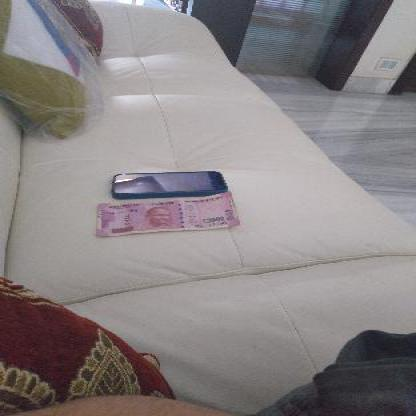New2000Front: (99, 197, 236, 233)
